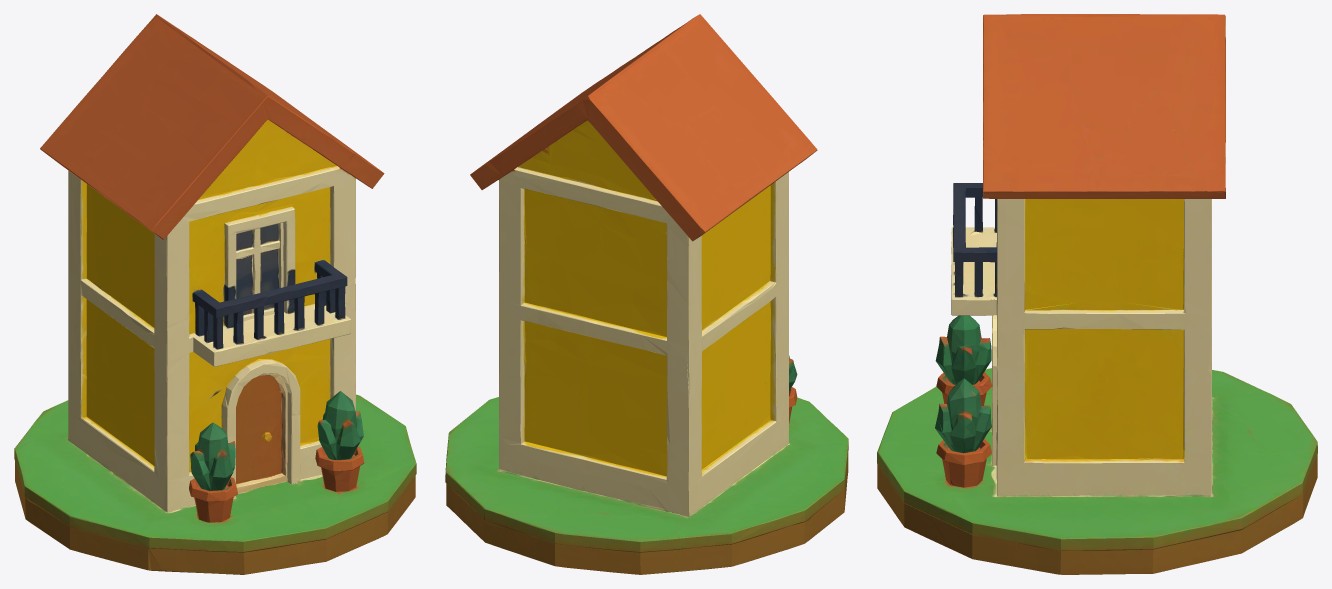
Rendered from rio-sobradinho.glb.
3 renders of one model, left to right at view 1: azimuth 30°, elevation 25°; view 2: azimuth 150°, elevation 25°; view 3: azimuth 270°, elevation 25°, orthographic. The views are drawn at different scales.
Visible parts, largest first — view 1: tripo_node_676c3fdd-36f6-4943-9dcc-fb93472da107; view 2: tripo_node_676c3fdd-36f6-4943-9dcc-fb93472da107; view 3: tripo_node_676c3fdd-36f6-4943-9dcc-fb93472da107.
Boxes of the visible parts, bbox=[...] form: tripo_node_676c3fdd-36f6-4943-9dcc-fb93472da107: bbox=[14, 14, 416, 574]; tripo_node_676c3fdd-36f6-4943-9dcc-fb93472da107: bbox=[445, 14, 848, 574]; tripo_node_676c3fdd-36f6-4943-9dcc-fb93472da107: bbox=[877, 14, 1317, 574].
Bounding box in the file's own units: 0.838 × 0.9999 × 0.8503.
1 material, 1 textured.
